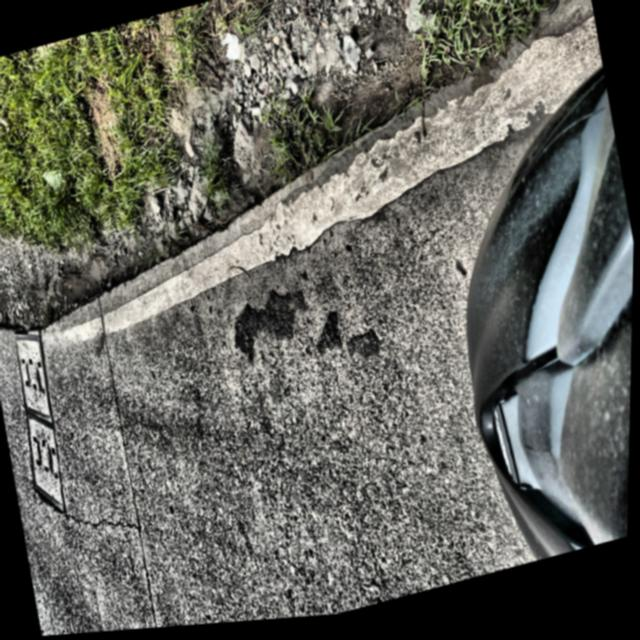no_or_faded_road_markings: (41, 77, 499, 349)
